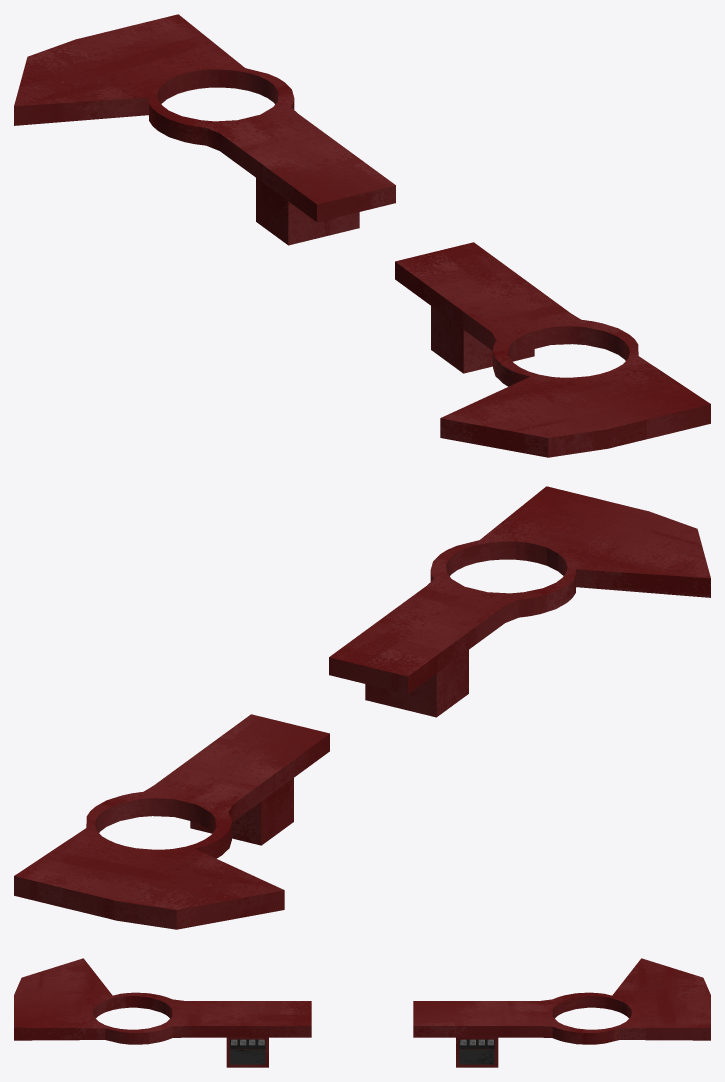
Rendered from MainShip_Test.fbx.
3 views of the same model, one above another, from view 1: azimuth 30°, elevation 25°; view 2: azimuth 150°, elevation 25°; view 3: azimuth 270°, elevation 25° (orthographic). The views are drawn at different scales.
Visible parts, largest first — view 1: MS_Wings; view 2: MS_Wings; view 3: MS_Wings.
Boxes of the visible parts, x1,y1,x2,y2 form: MS_Wings: [14, 14, 710, 457]; MS_Wings: [14, 486, 710, 929]; MS_Wings: [14, 958, 710, 1067].
Bounding box in the file's own units: 382 × 108 × 1532.
2 materials, 2 textured.
